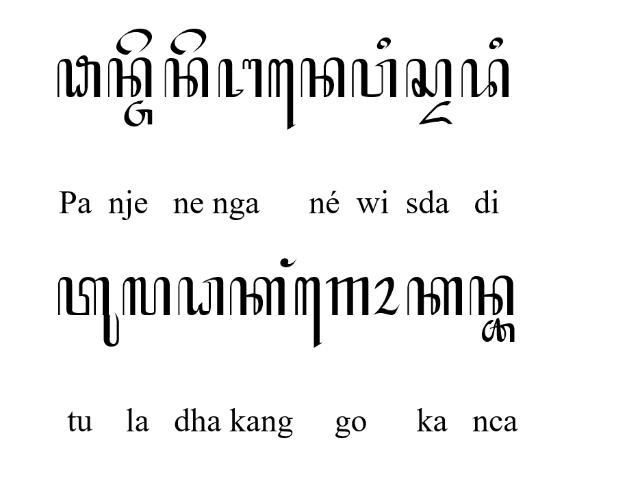P: (56, 54, 102, 98)
_c: (481, 318, 515, 344)
_d: (418, 100, 454, 126)
_j: (123, 99, 153, 127)
d: (460, 57, 510, 99)
dh: (177, 275, 225, 317)
e: (169, 28, 207, 56), (116, 28, 152, 56)
e1: (268, 57, 296, 131), (294, 277, 322, 349)
g: (325, 277, 369, 318)
i: (376, 36, 392, 50), (488, 36, 502, 50)
k: (228, 277, 286, 318), (406, 277, 464, 317)
l: (122, 277, 172, 318)
n: (300, 57, 346, 99), (468, 274, 514, 316), (106, 58, 154, 98), (164, 56, 208, 98)
ng: (278, 256, 298, 268)
nga: (217, 57, 263, 99)
o: (372, 276, 400, 316)
s: (404, 58, 454, 98)
tu: (56, 276, 120, 348)
w: (350, 58, 398, 98)
